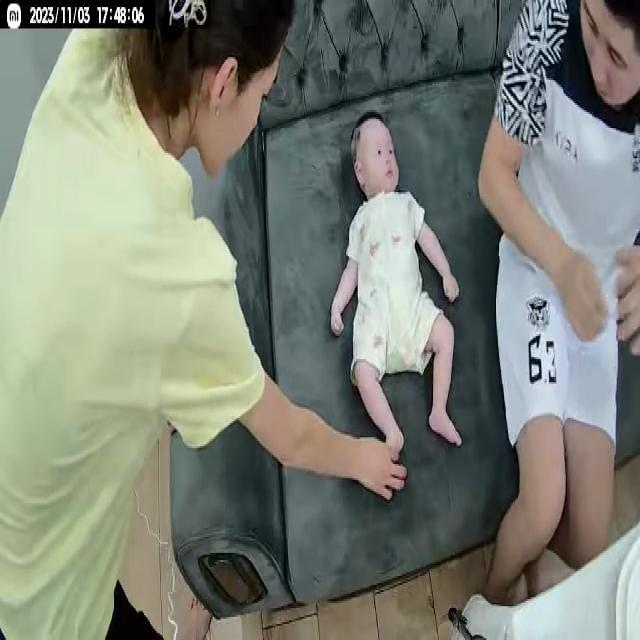baby: (326, 112, 464, 459)
